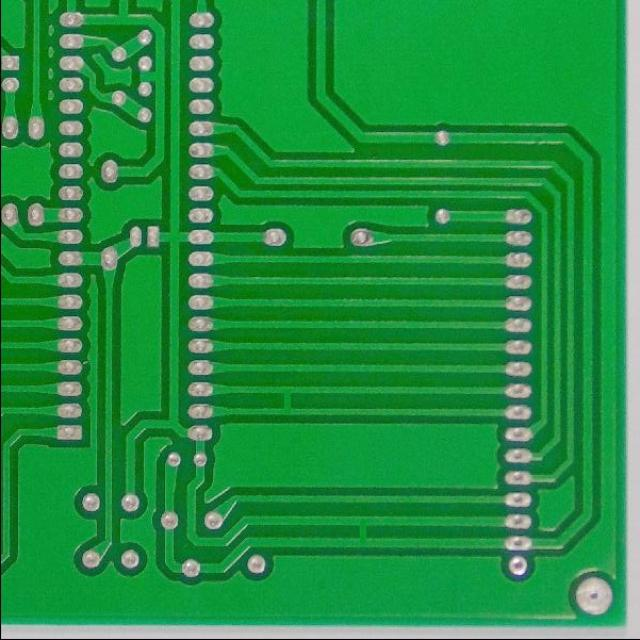short: (271, 384, 296, 419), (348, 512, 370, 548)
